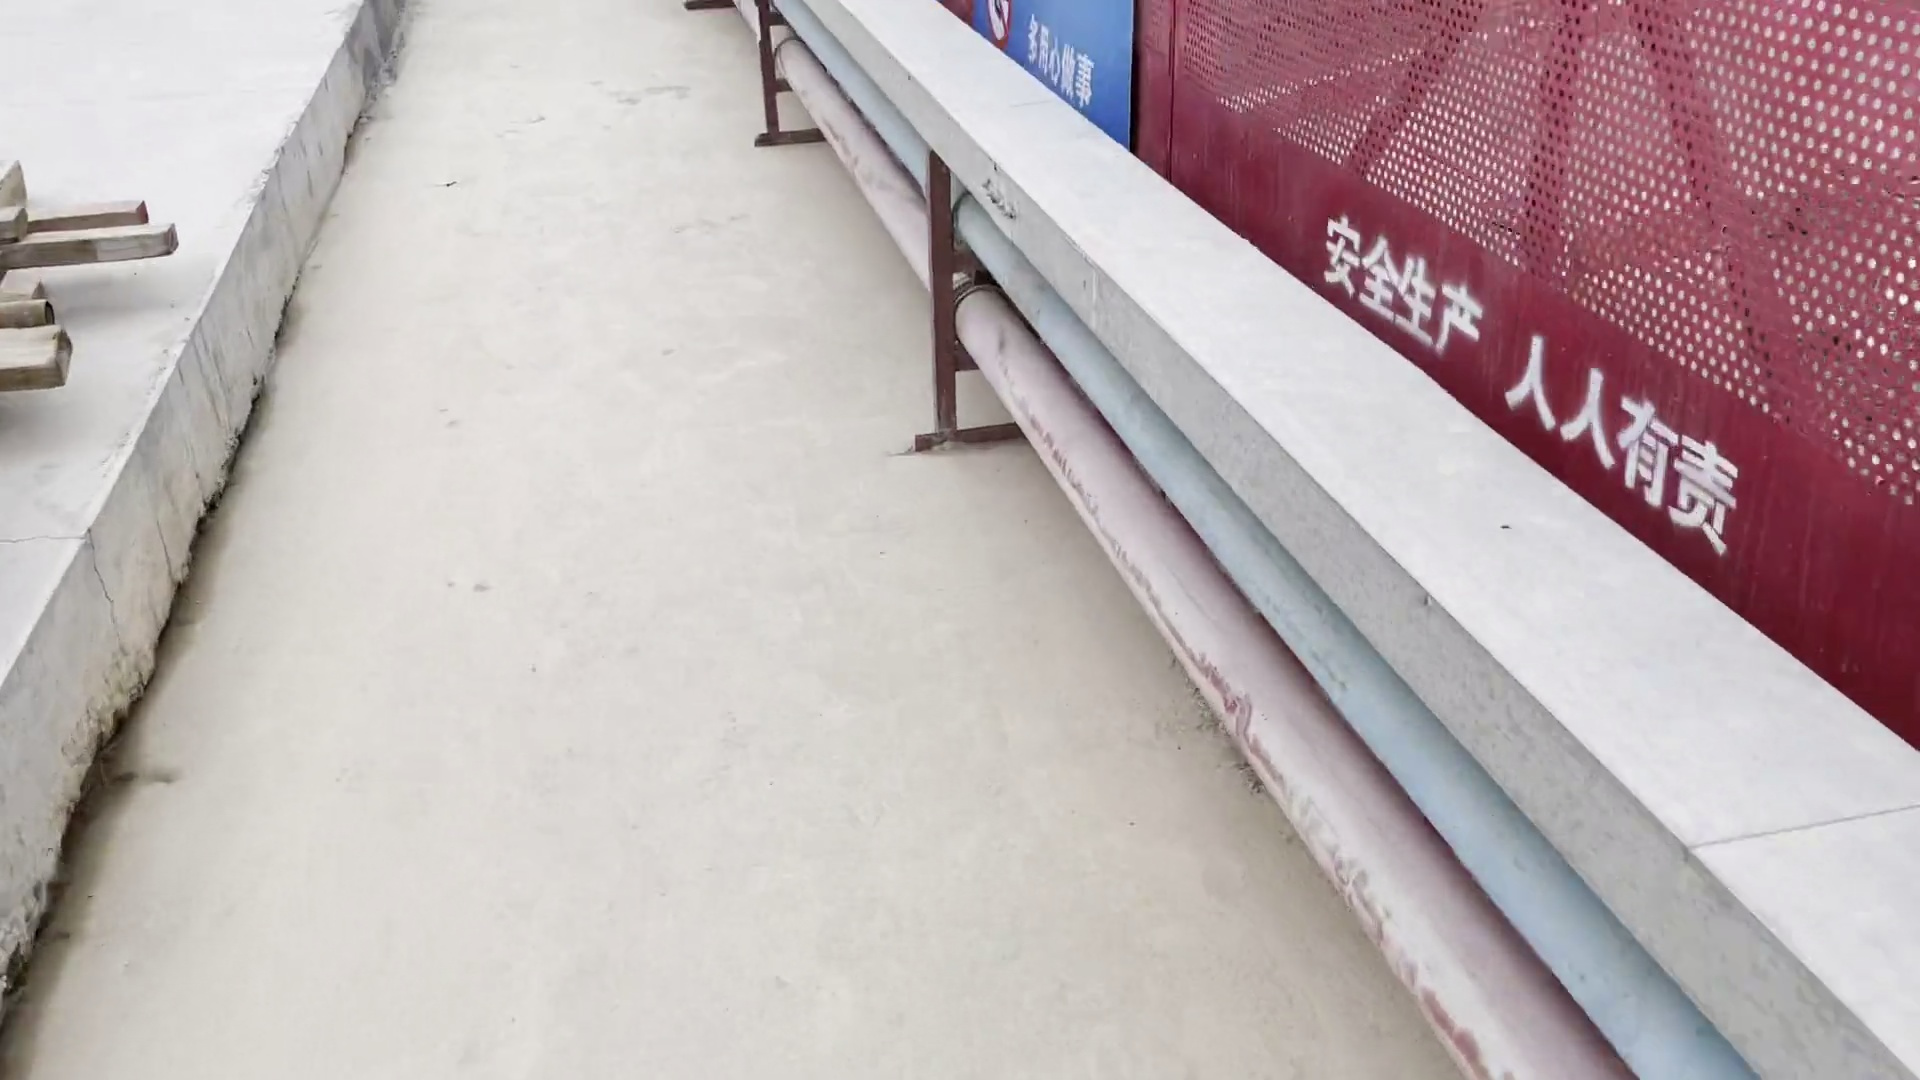fence: (944, 1, 1920, 770)
slogan: (944, 1, 1225, 178)
wood: (1, 154, 194, 423)
